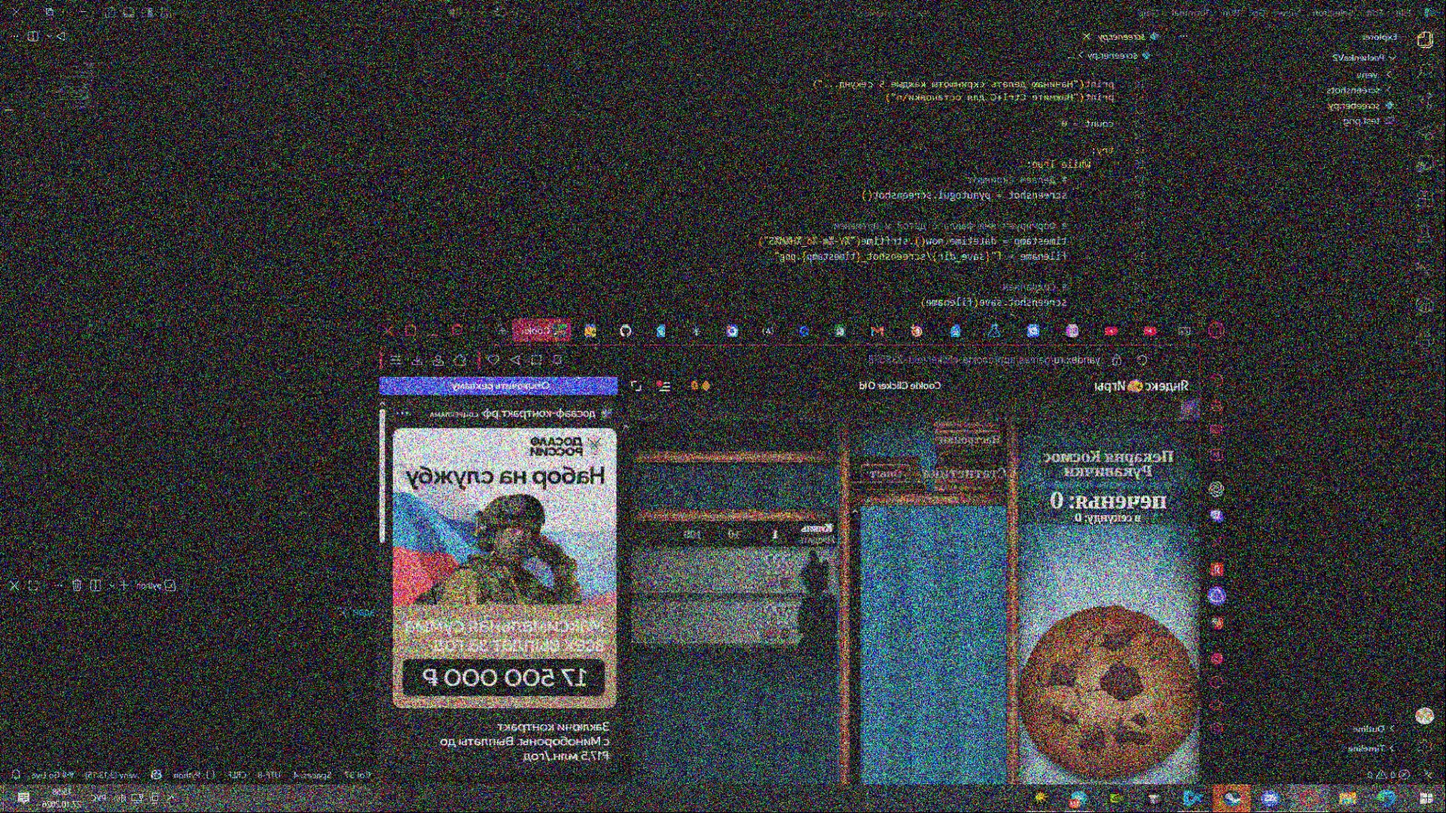game: (1013, 594, 1200, 784)
pokypki: (628, 548, 834, 646)
